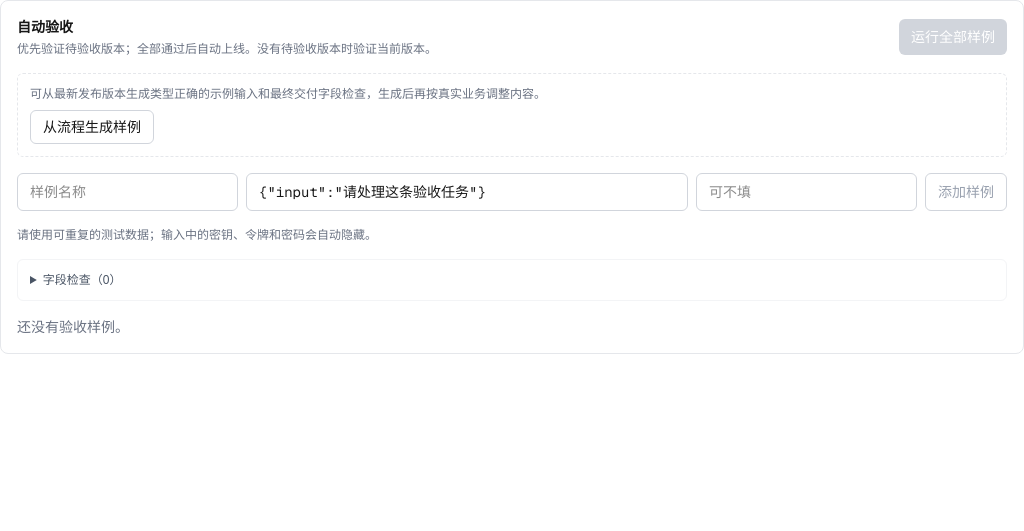
Test: EvaluationPanel › 包含检查未填写预期文字时阻止保存
Type "空条件样例" into the field labelled "样例名称" at (128, 192), box [17,173,238,211]
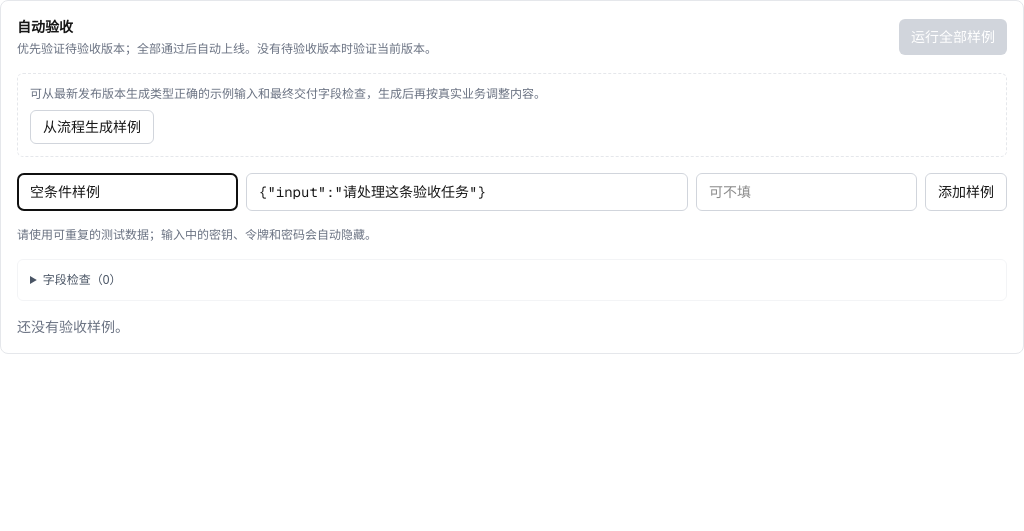
Click the heading "字段检查（0）" at (82, 280), box [43,273,121,287]
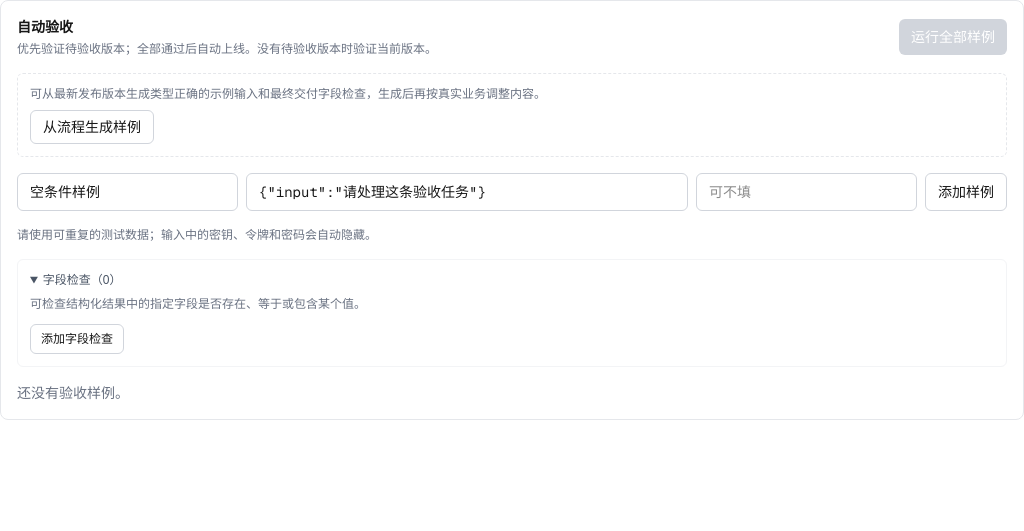
Click the button "添加字段检查" at (77, 339), box [30,324,124,354]
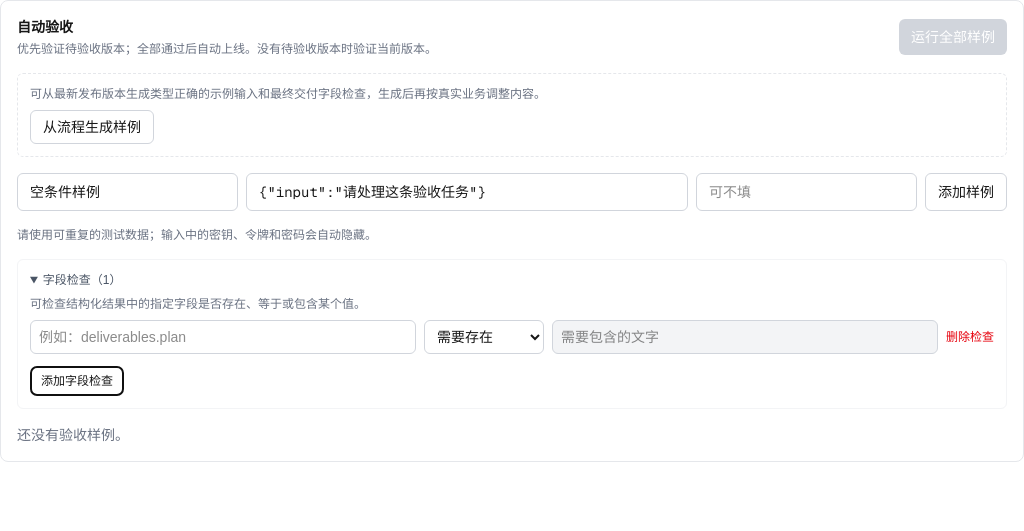
Type "result" into the field named "字段检查 1 路径" at (223, 337), box [30,320,416,354]
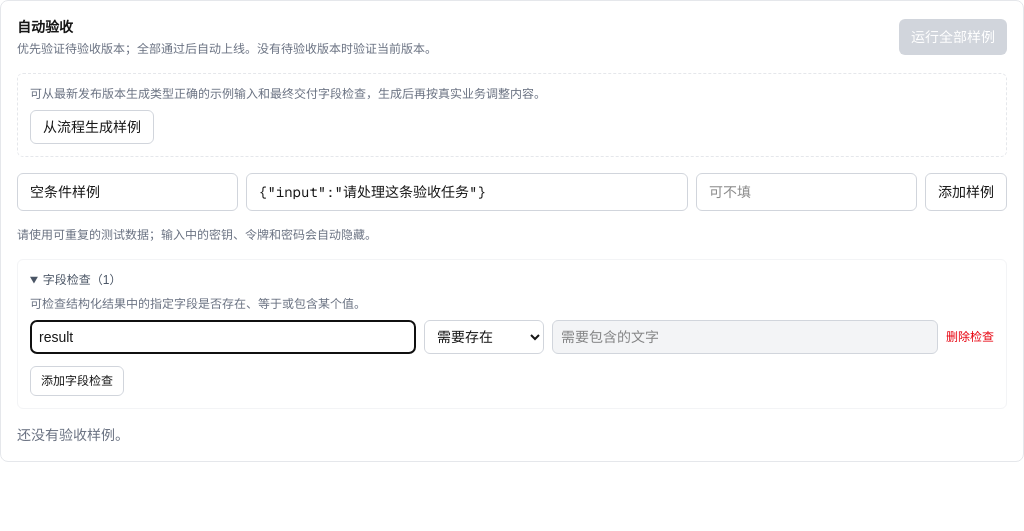
Select "需要包含" in the dropdown named "字段检查 1 方式" at (484, 337), box [424,320,544,354]
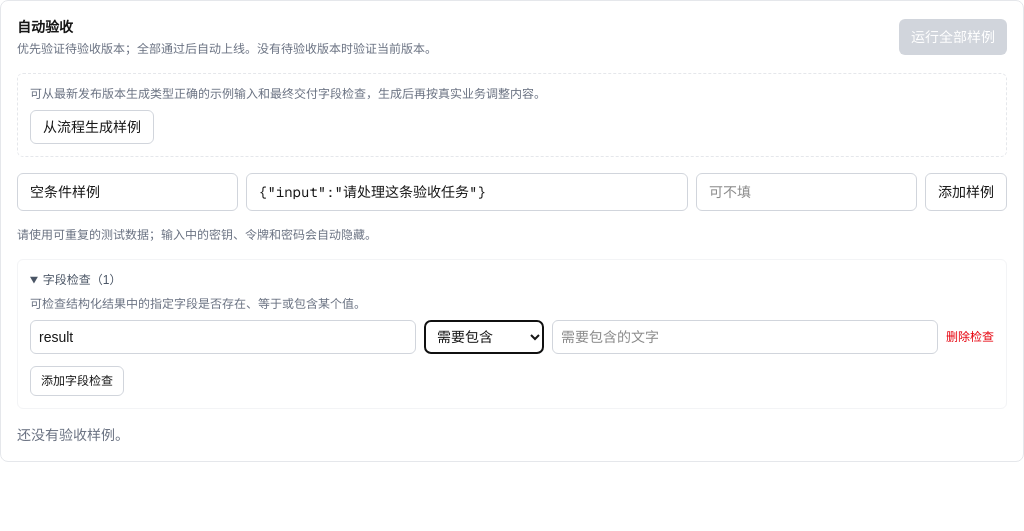
Click the button "添加样例" at (966, 192), box [925,173,1007,211]
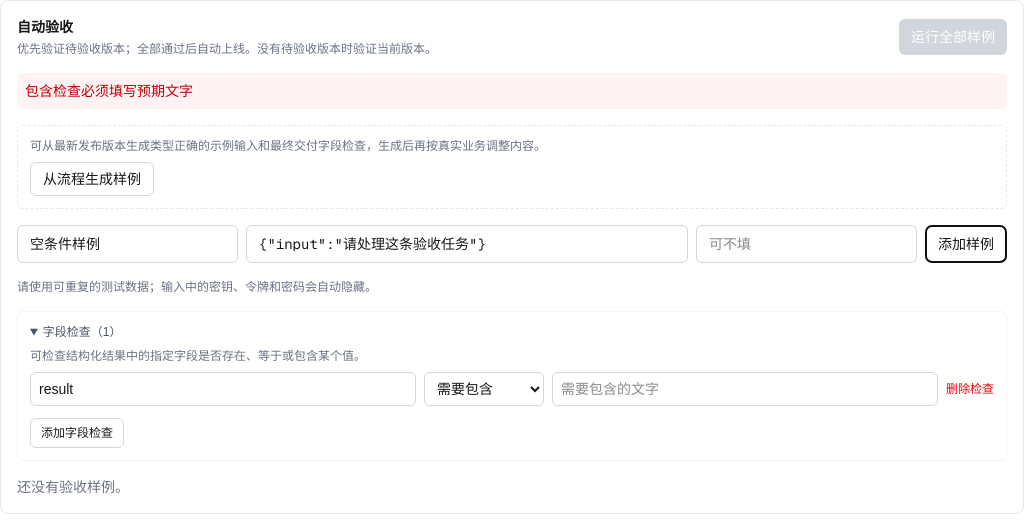
Check: the message reads "包含检查必须填写预期文字", box [25,83,193,99]
